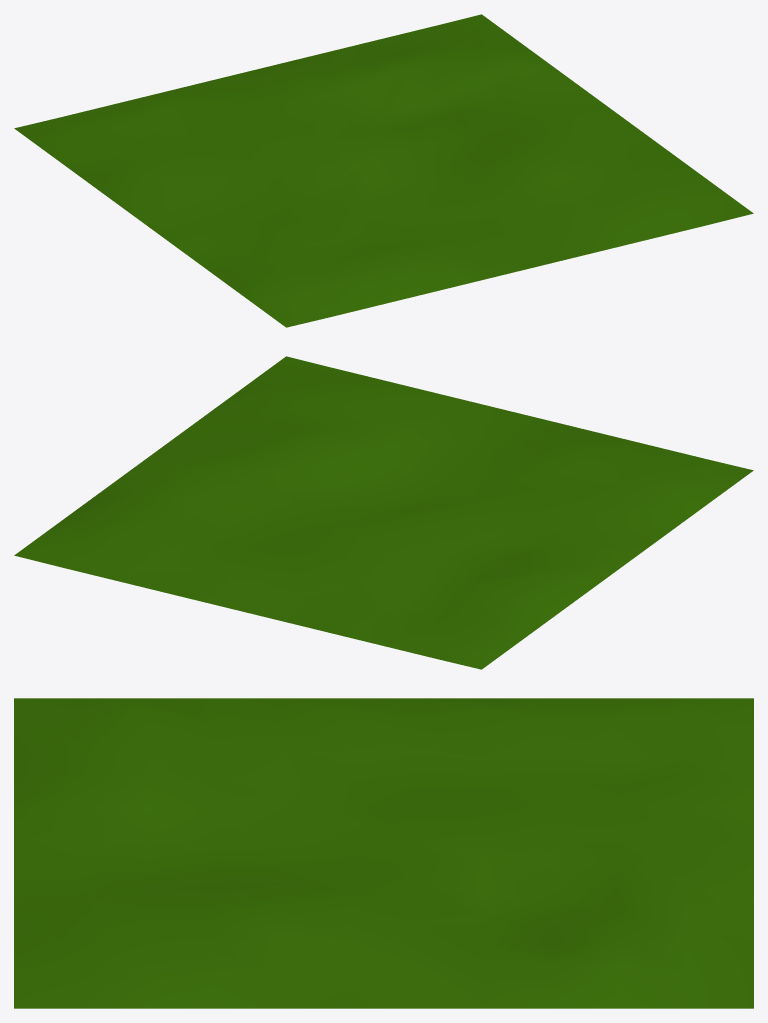
The model's file is Cave End.fbx.
3 views of the same model, one above another, from view 1: azimuth 30°, elevation 25°; view 2: azimuth 150°, elevation 25°; view 3: azimuth 270°, elevation 25° (orthographic). The views are drawn at different scales.
Parts seen in each view (by area): view 1: Snow.007; view 2: Snow.007; view 3: Snow.007.
Boxes of the visible parts, left/top/right/bottom form: Snow.007: left=14, top=14, right=753, bottom=327; Snow.007: left=14, top=356, right=753, bottom=669; Snow.007: left=14, top=698, right=753, bottom=1008.
Size of the model in its own units: 200 by 6.62 by 202.
